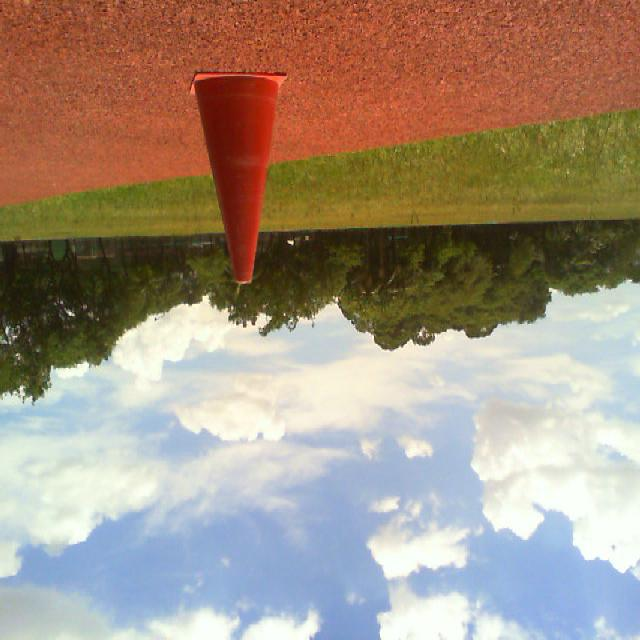cone: (190, 70, 288, 282)
